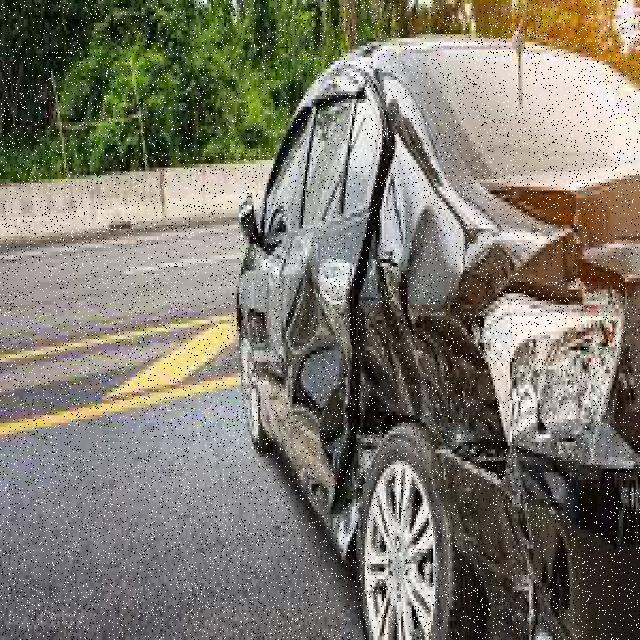doorouter-dent: (272, 224, 358, 492)
quaterpanel-dent: (354, 152, 461, 472)
rear-bumper-dent: (446, 430, 638, 636)
